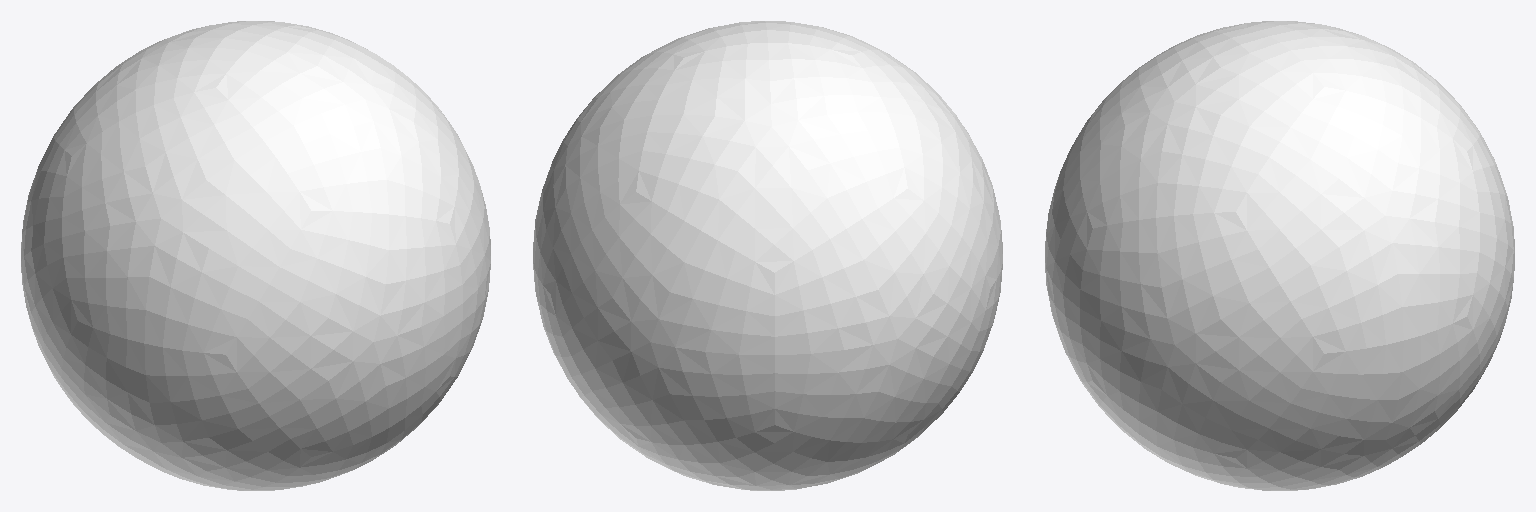
The model's file is orb_3.obj.
The picture shows the model from 3 angles: view 1: azimuth 30°, elevation 25°; view 2: azimuth 150°, elevation 25°; view 3: azimuth 270°, elevation 25°; orthographic projection.
Visible parts, largest first — view 1: pPlatonic1; view 2: pPlatonic1; view 3: pPlatonic1.
Part boxes in pixels (x1,y1,x2,y2): pPlatonic1: (21,21,490,490); pPlatonic1: (533,21,1002,490); pPlatonic1: (1045,21,1514,490).
Bounding box in the file's own units: 2 × 2 × 2.